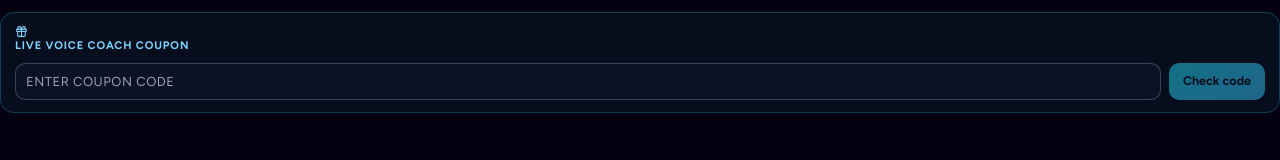
Test: valid code shows the points preview and a Redeem button
In the field with test id "live-coupon-input": (588, 81) [15,62,1161,100], type "abc123"
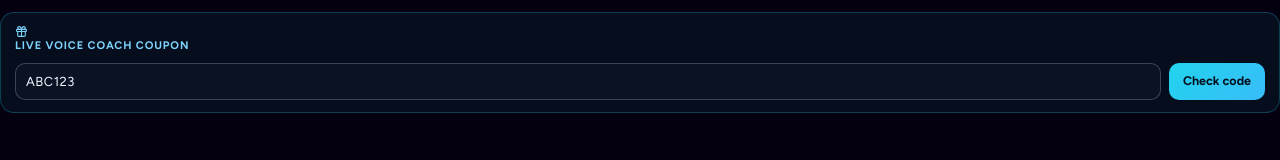
Click the button with test id "live-coupon-check-btn": (1217, 81) [1169,62,1265,100]
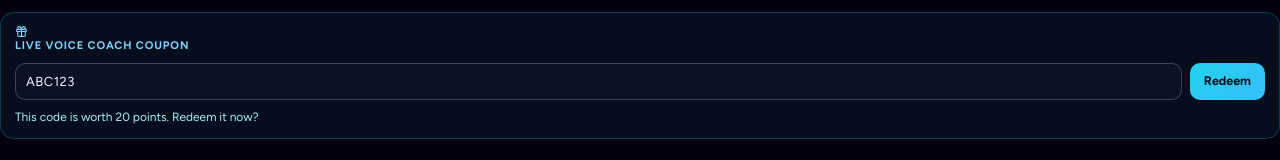
Expected: the text with test id "live-coupon-preview" shows "20 points", [15,110,259,124]
Expected: the button with test id "live-coupon-redeem-btn" is shown, [1190,62,1265,100]
